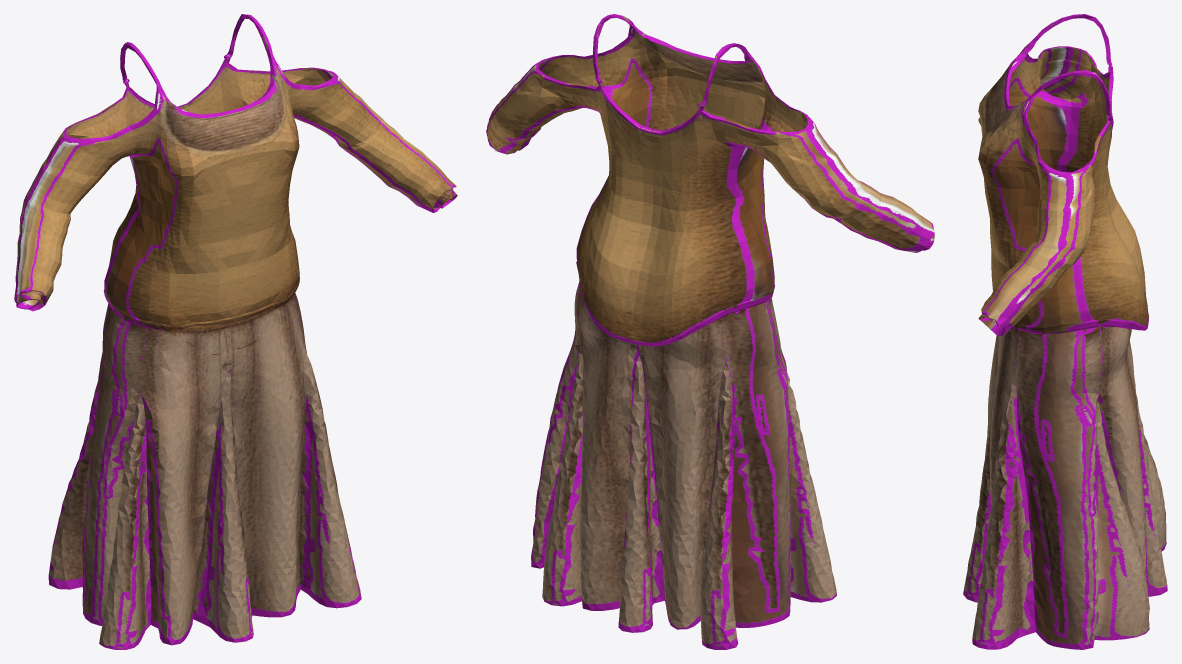
The picture shows the model from 3 angles, left to right: view 1: azimuth 30°, elevation 25°; view 2: azimuth 150°, elevation 25°; view 3: azimuth 270°, elevation 25°; orthographic projection. The views are drawn at different scales.
Size of the model in its own units: 0.8112 by 0.9973 by 0.3324.
1 material, 1 textured.
